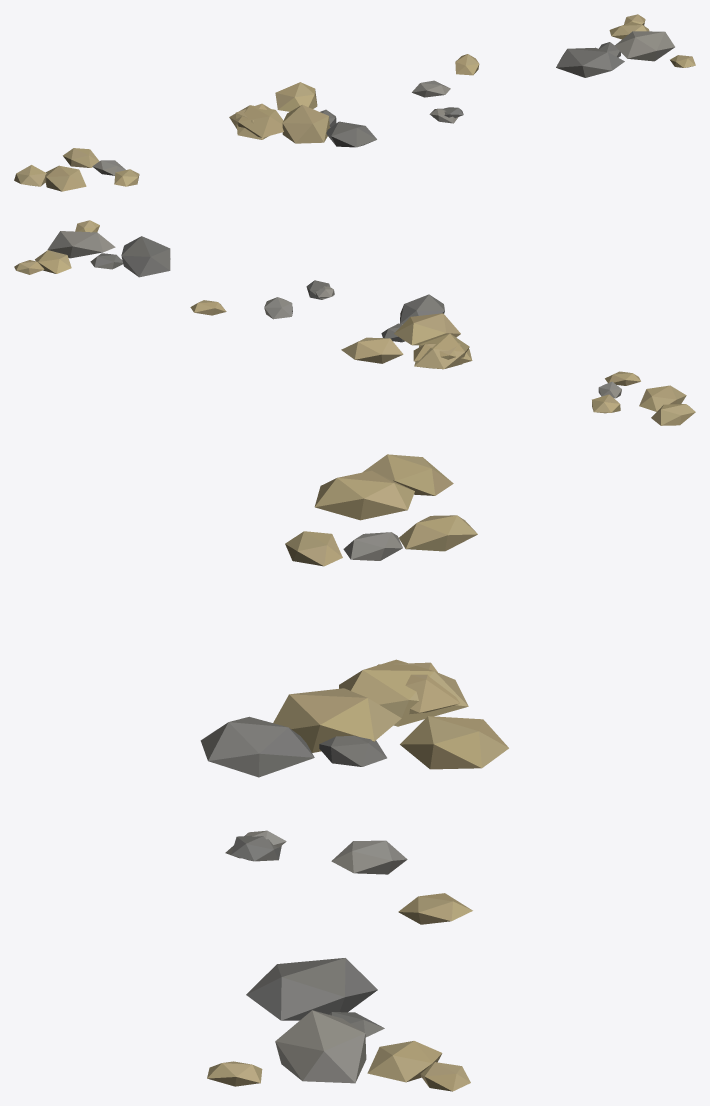
File: ranvora_v2_pebbles.glb
3 renders of one model, top to bottom at view 1: azimuth 30°, elevation 25°; view 2: azimuth 150°, elevation 25°; view 3: azimuth 270°, elevation 25°, orthographic. The views are drawn at different scales.
Parts seen in each view (by area): view 1: pebbles_B_mesh, pebbles_D_mesh, pebbles_A_mesh, pebbles_C_mesh; view 2: pebbles_B_mesh, pebbles_D_mesh, pebbles_A_mesh, pebbles_C_mesh; view 3: pebbles_B_mesh, pebbles_D_mesh, pebbles_A_mesh, pebbles_C_mesh.
Part boxes in pixels (x1=…): pebbles_B_mesh: x1=229, y1=82, x2=376, y2=147; pebbles_D_mesh: x1=556, y1=14, x2=695, y2=77; pebbles_A_mesh: x1=14, y1=148, x2=139, y2=191; pebbles_C_mesh: x1=412, y1=54, x2=479, y2=123; pebbles_B_mesh: x1=341, y1=294, x2=472, y2=369; pebbles_D_mesh: x1=14, y1=220, x2=170, y2=277; pebbles_A_mesh: x1=592, y1=371, x2=695, y2=425; pebbles_C_mesh: x1=190, y1=280, x2=334, y2=319; pebbles_B_mesh: x1=200, y1=659, x2=508, y2=777; pebbles_D_mesh: x1=207, y1=958, x2=470, y2=1091; pebbles_A_mesh: x1=285, y1=454, x2=477, y2=566; pebbles_C_mesh: x1=225, y1=830, x2=472, y2=924.
Bounding box in the file's own units: 7.38 × 0.24 × 1.54.
